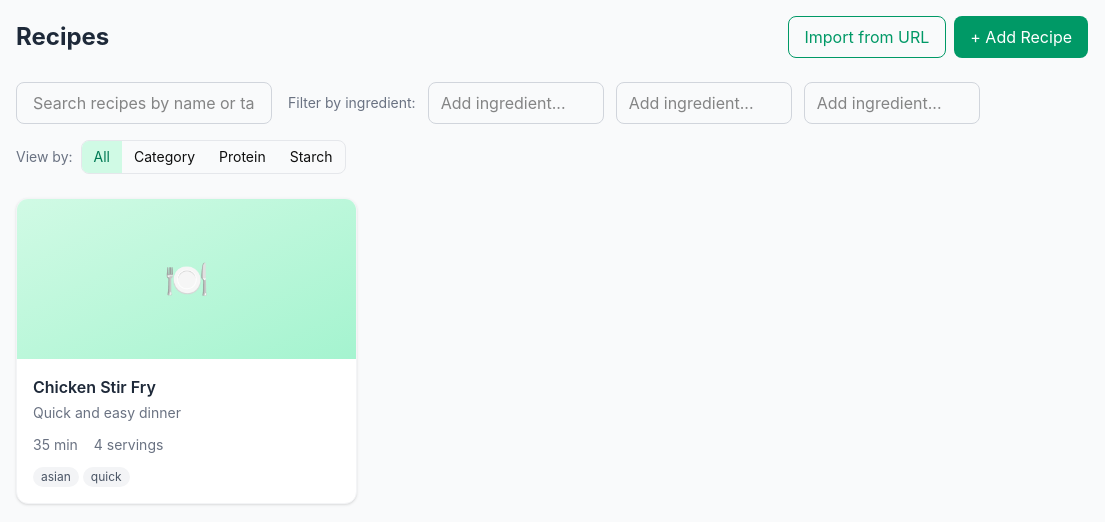
Test: Recipes › Filtering › shows 'no recipes found' when search matches nothing
The width and height of the screenshot is (1105, 522).
Type "nonexistent" into the field with placeholder "Search recipes by name or tag..." at (144, 103), box left=16, top=82, right=272, bottom=124
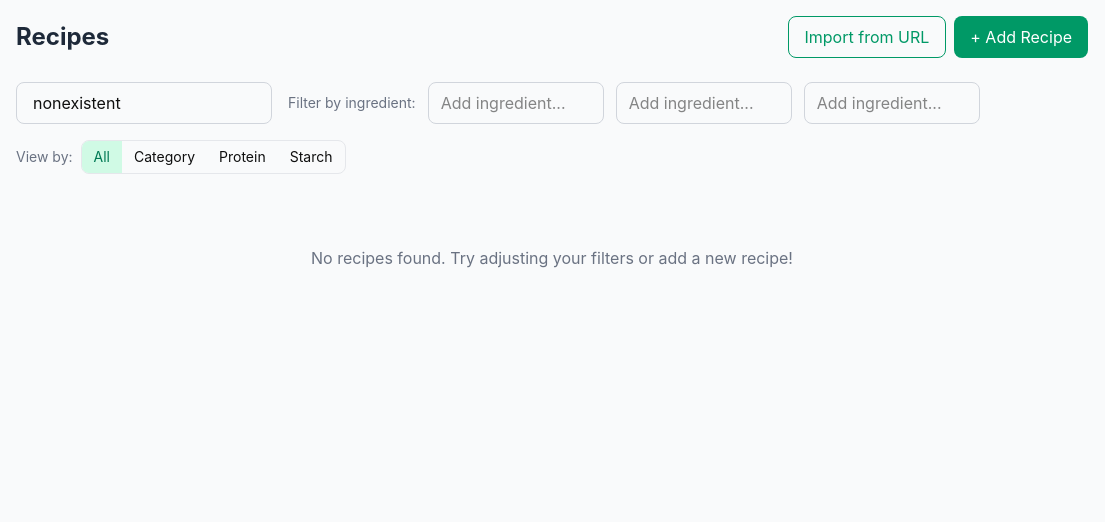
Expected: the text "No recipes found. Try adjusting your filters or add a new recipe!" is shown, left=311, top=248, right=793, bottom=268
